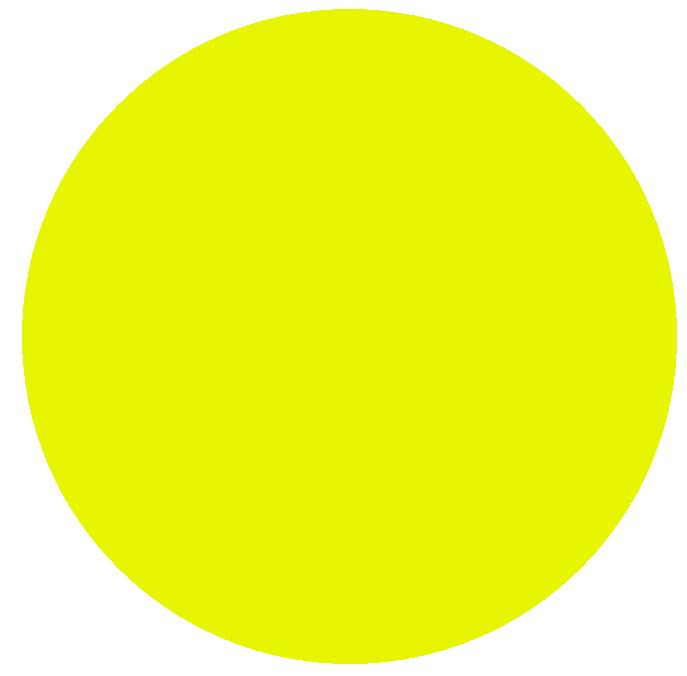yellow_circle: (23, 5, 687, 676)
